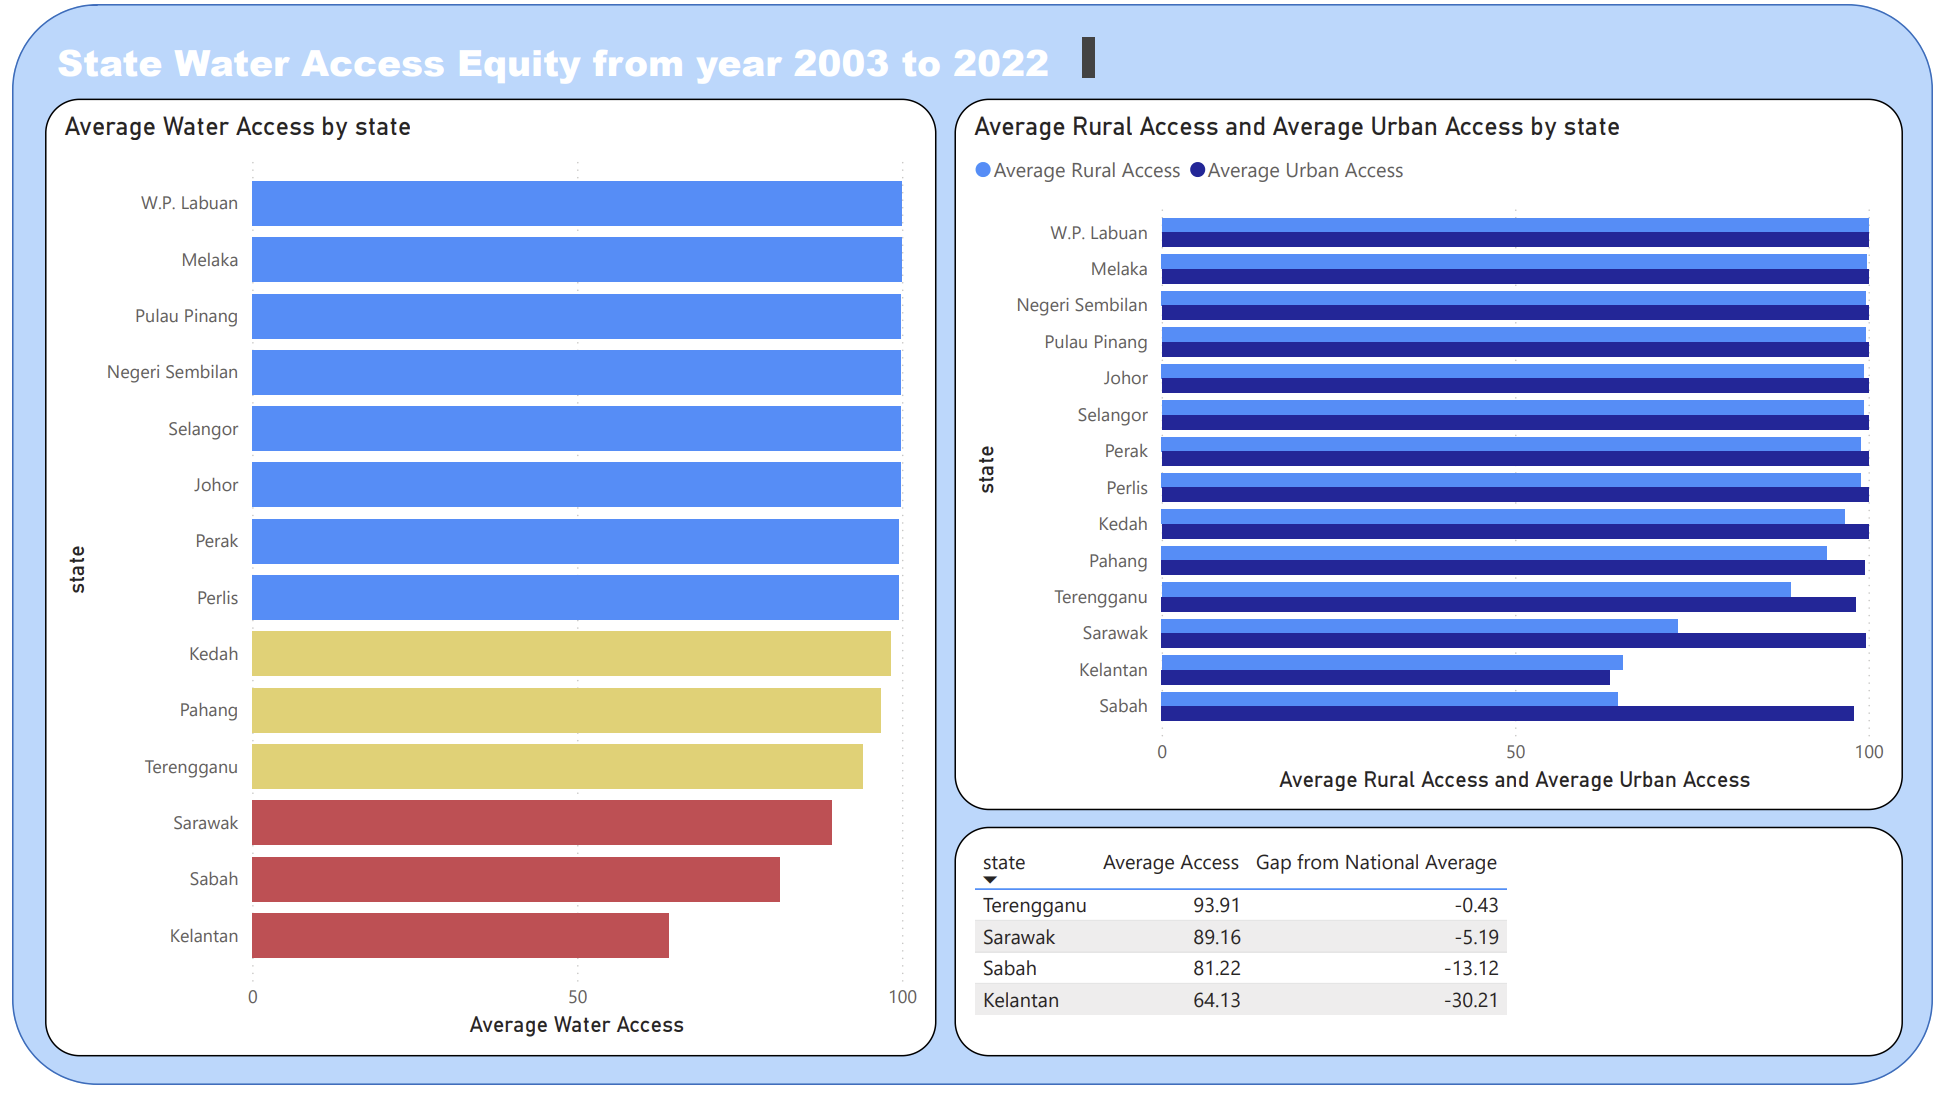

The dashboard page shown, as its layout file describes it:
{"tool":"powerbi","page":{"name":"State Water Access Equity ","canvas":[1280,720],"ordinal":1},"visuals":[{"type":"shape","box":[0,0,1280,720],"z":0},{"type":"clusteredBarChart","fields":{"Category":["State Ranking.state"],"Y":["Sum(State Ranking.avg_access)"]},"box":[22.2,63.3,593.3,637.8],"z":1000},{"type":"clusteredBarChart","fields":{"Category":["Urban and Rural Gap.state"],"Y":["Sum(Urban and Rural Gap.avg_rural_access)","Sum(Urban and Rural Gap.avg_urban_access)"]},"box":[627.8,63.5,632.6,473.7],"z":2000},{"type":"tableEx","fields":{"Values":["Underserved States.state","Sum(Underserved States.avg_access)","Sum(Underserved States.gap_from_national_avg)"]},"box":[627.8,547.8,632.2,153.3],"z":3000},{"type":"textbox","box":[25.1,17.5,700.8,46.9],"z":4000}]}

Visuals, with their boxes in screenshot pixels (x1, y1, x2, y2), scaled from the page's 1280x720 canvas onto the 1946x1098 screenshot:
shape: pyautogui.locateOnScreen(0, 0, 1945, 1097)
clusteredBarChart - State Ranking.state x Sum(State Ranking.avg_access): pyautogui.locateOnScreen(34, 97, 936, 1069)
clusteredBarChart - Urban and Rural Gap.state x Sum(Urban and Rural Gap.avg_rural_access): pyautogui.locateOnScreen(954, 97, 1916, 819)
tableEx - Underserved States.state x Sum(Underserved States.avg_access): pyautogui.locateOnScreen(954, 835, 1916, 1069)
textbox: pyautogui.locateOnScreen(38, 27, 1104, 98)
